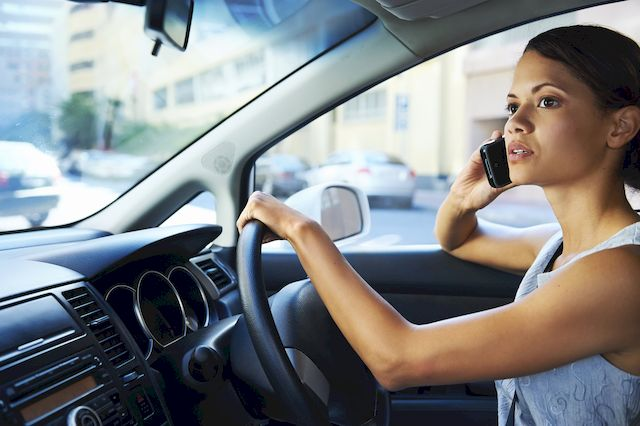phone: (481, 134, 525, 193)
talk: (457, 75, 591, 220)
